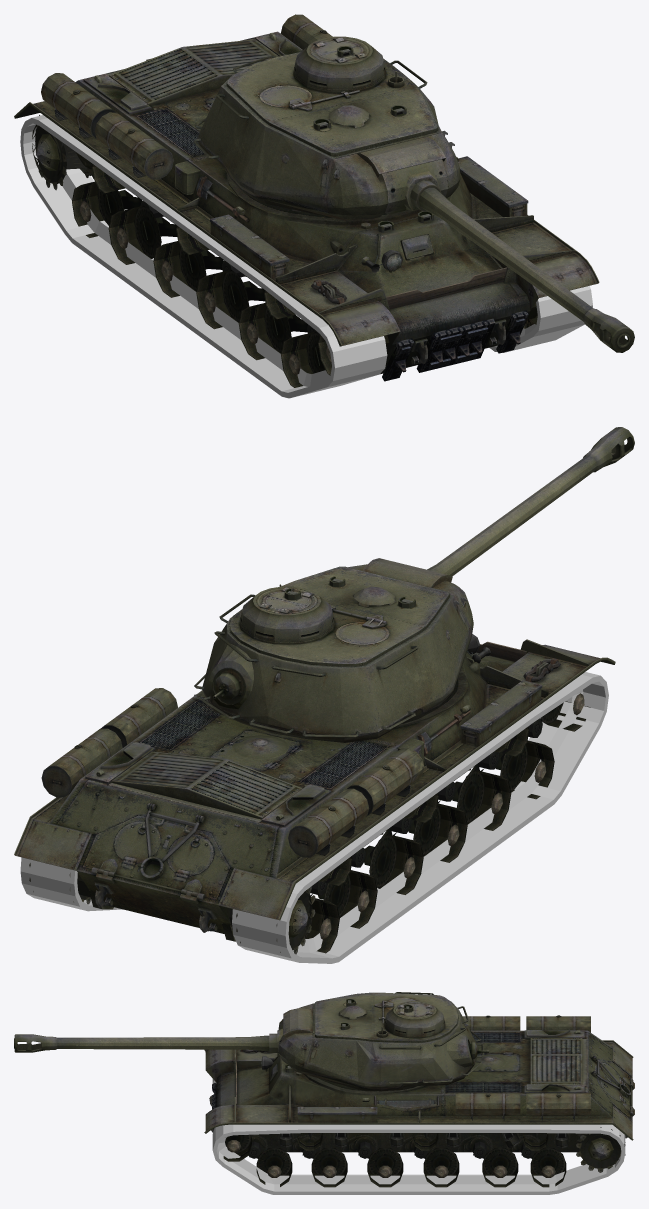
3 renders of one model, top to bottom at view 1: azimuth 30°, elevation 25°; view 2: azimuth 150°, elevation 25°; view 3: azimuth 270°, elevation 25°, orthographic. The views are drawn at different scales.
Visible parts, largest first — view 1: Hull_Object_1.001, Turret_Object_1.002, Track_Right_Object_4, Wheels_Right_Object_2, Gun_Object_1.003, Track_Left_Object_3; view 2: Hull_Object_1.001, Turret_Object_1.002, Track_Right_Object_4, Wheels_Right_Object_2, Gun_Object_1.003, Track_Left_Object_3; view 3: Hull_Object_1.001, Turret_Object_1.002, Track_Left_Object_3, Wheels_Left_Object_1, Gun_Object_1.003.
Part boxes in pixels (<box>): Hull_Object_1.001: <box>14,14,599,381</box>; Turret_Object_1.002: <box>193,36,460,219</box>; Track_Right_Object_4: <box>20,115,387,398</box>; Wheels_Right_Object_2: <box>32,115,331,387</box>; Gun_Object_1.003: <box>381,159,634,352</box>; Track_Left_Object_3: <box>489,286,592,352</box>; Hull_Object_1.001: <box>14,634,615,941</box>; Turret_Object_1.002: <box>194,558,473,742</box>; Track_Right_Object_4: <box>232,672,608,963</box>; Wheels_Right_Object_2: <box>236,693,590,954</box>; Gun_Object_1.003: <box>427,427,634,576</box>; Track_Left_Object_3: <box>20,857,122,911</box>; Hull_Object_1.001: <box>204,1015,634,1158</box>; Turret_Object_1.002: <box>278,992,488,1091</box>; Track_Left_Object_3: <box>212,1124,625,1194</box>; Wheels_Left_Object_1: <box>223,1127,625,1187</box>; Gun_Object_1.003: <box>14,1021,284,1060</box>.
Bounding box in the file's own units: 3.21 × 2.71 × 9.76.
